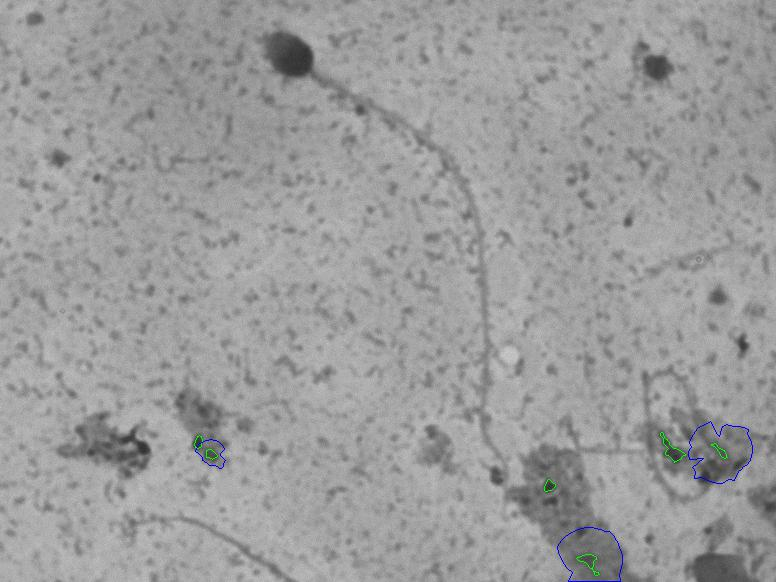Normal: (244, 16, 513, 522)
